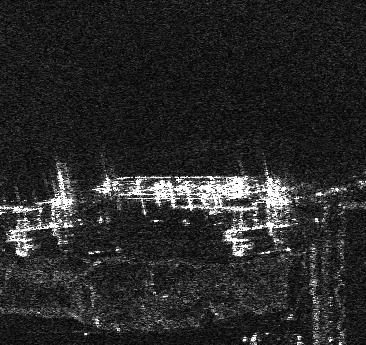ship: (93, 166, 270, 206)
